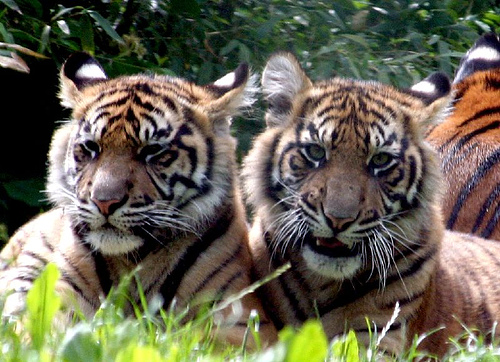Tigre: (246, 71, 485, 324), (21, 36, 238, 289)
